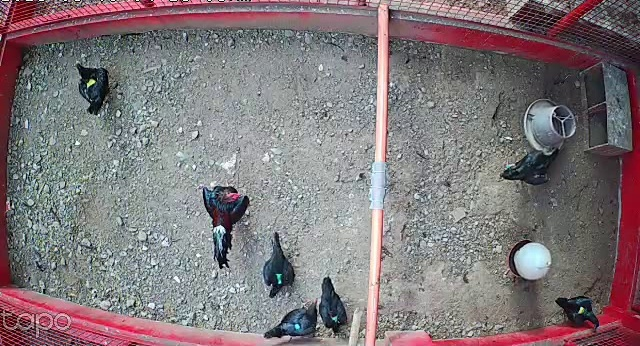Chicken: (497, 144, 563, 185), (69, 60, 114, 114), (262, 299, 318, 341), (262, 231, 296, 298), (553, 291, 604, 334), (316, 273, 351, 334)
Rooster: (200, 181, 257, 273)
Saddle_Color_Blue: (296, 324, 300, 329)
Saddle_Color_Yellow: (83, 72, 100, 90)
Saddle_Color_YellowGreen: (578, 306, 586, 317)
